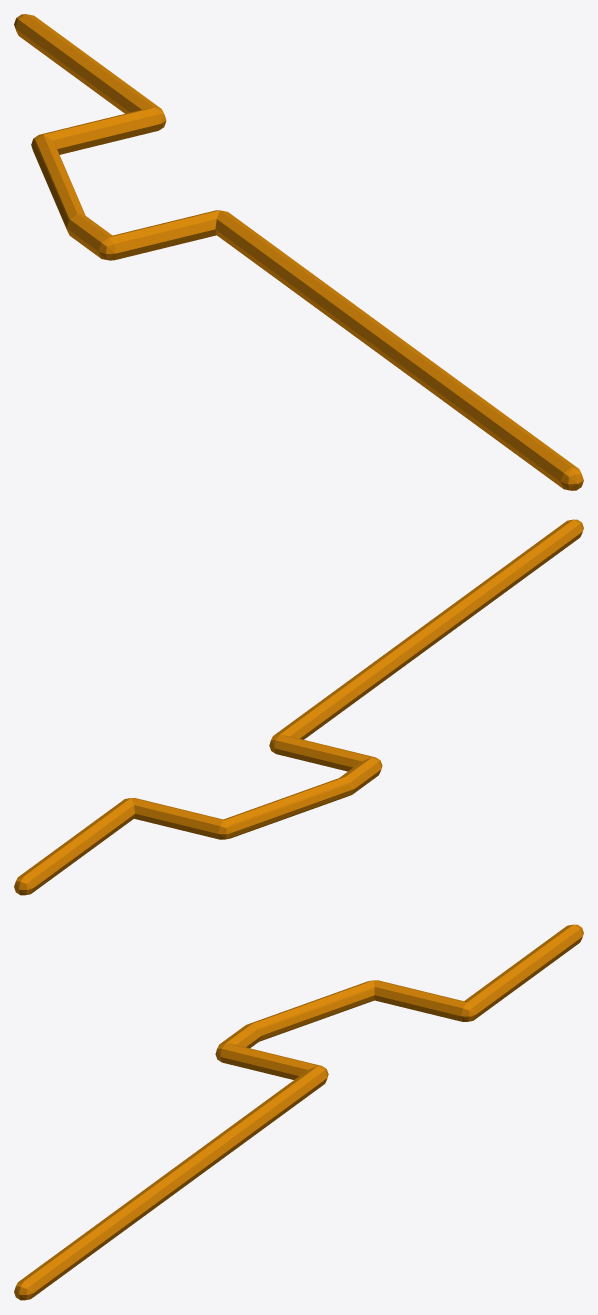
3 renders of one model, top to bottom at view 1: azimuth 30°, elevation 25°; view 2: azimuth 150°, elevation 25°; view 3: azimuth 330°, elevation 25°, orthographic. The views are drawn at different scales.
Size of the model in its own units: 170 by 20 by 960.
